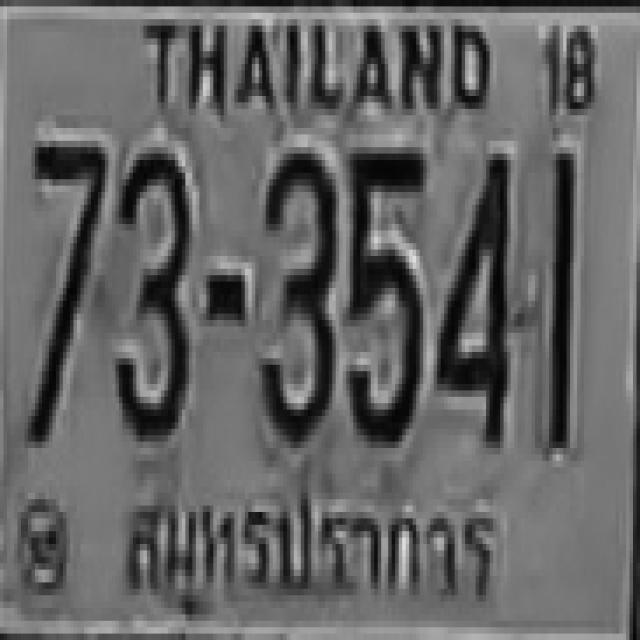1: (547, 147, 572, 448)
3: (110, 141, 187, 435), (259, 144, 332, 438)
4: (434, 147, 507, 442)
5: (346, 140, 423, 442)
7: (24, 134, 105, 442)
SamutPrakan: (119, 469, 501, 616)
